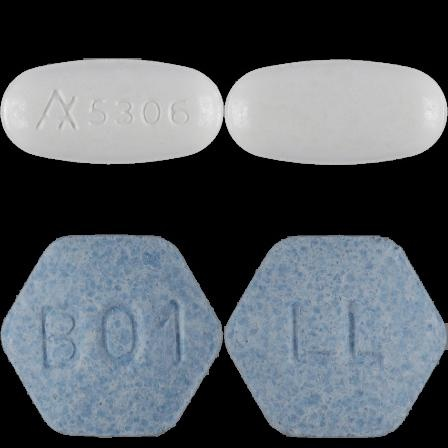50436-6951: (0, 0, 224, 224)
